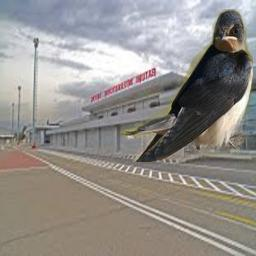Swallow: (120, 9, 253, 162)
